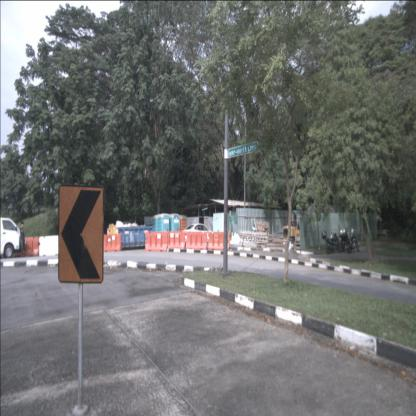human-pedestrian-adult: (20, 221, 27, 259)
movable_object-barrier: (13, 236, 40, 256), (145, 231, 169, 252), (38, 235, 62, 256), (207, 231, 230, 250), (185, 231, 208, 250), (100, 234, 122, 252), (167, 231, 186, 249)
vehicle-car: (0, 216, 24, 259), (181, 224, 215, 246)
vehicle-motorcycle: (322, 230, 344, 254), (345, 228, 360, 253), (339, 225, 349, 252)
